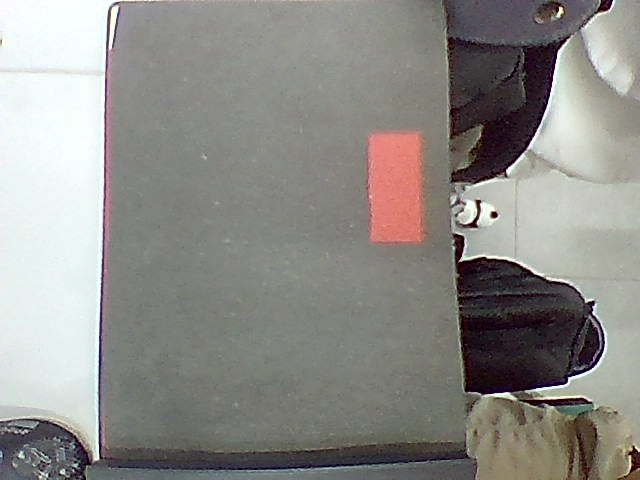card: (369, 131, 424, 243)
